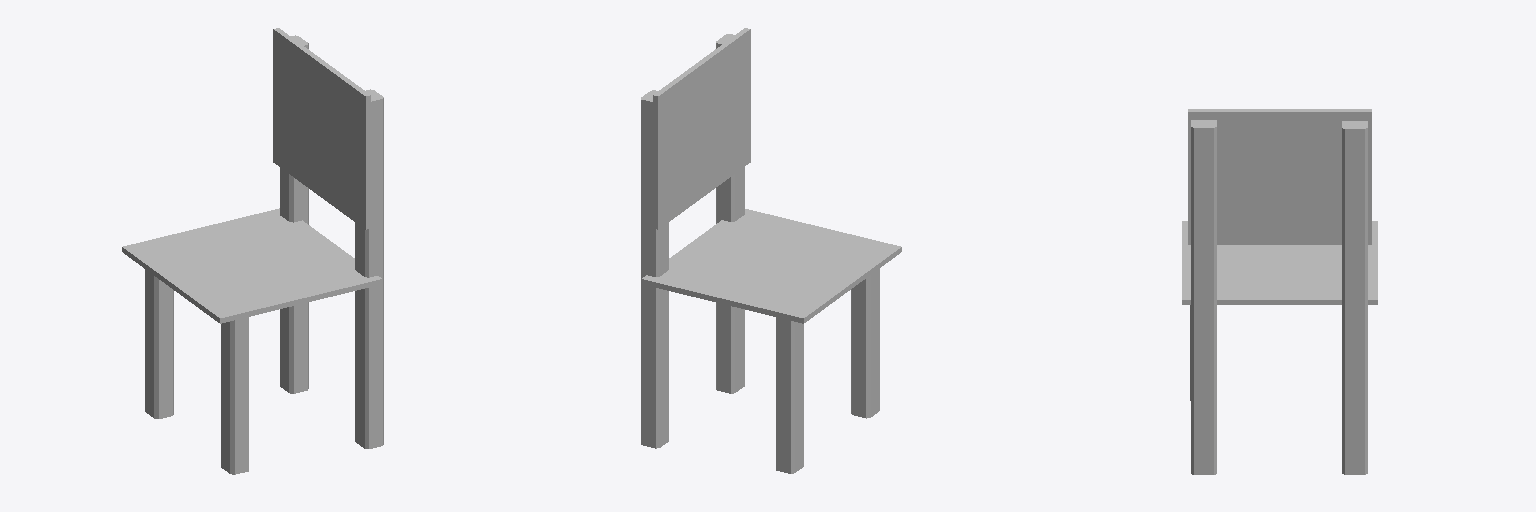
File: cadeira.obj
3 views of the same model, side by side, from view 1: azimuth 30°, elevation 25°; view 2: azimuth 150°, elevation 25°; view 3: azimuth 270°, elevation 25° (orthographic).
Parts seen in each view (by area): view 1: Cubo.002; view 2: Cubo.002; view 3: Cubo.002.
Boxes of the visible parts, x1=… form: Cubo.002: x1=122, y1=28, x2=383, y2=474; Cubo.002: x1=641, y1=28, x2=901, y2=473; Cubo.002: x1=1182, y1=109, x2=1377, y2=474.
Size of the model in its own units: 1 by 2 by 1.